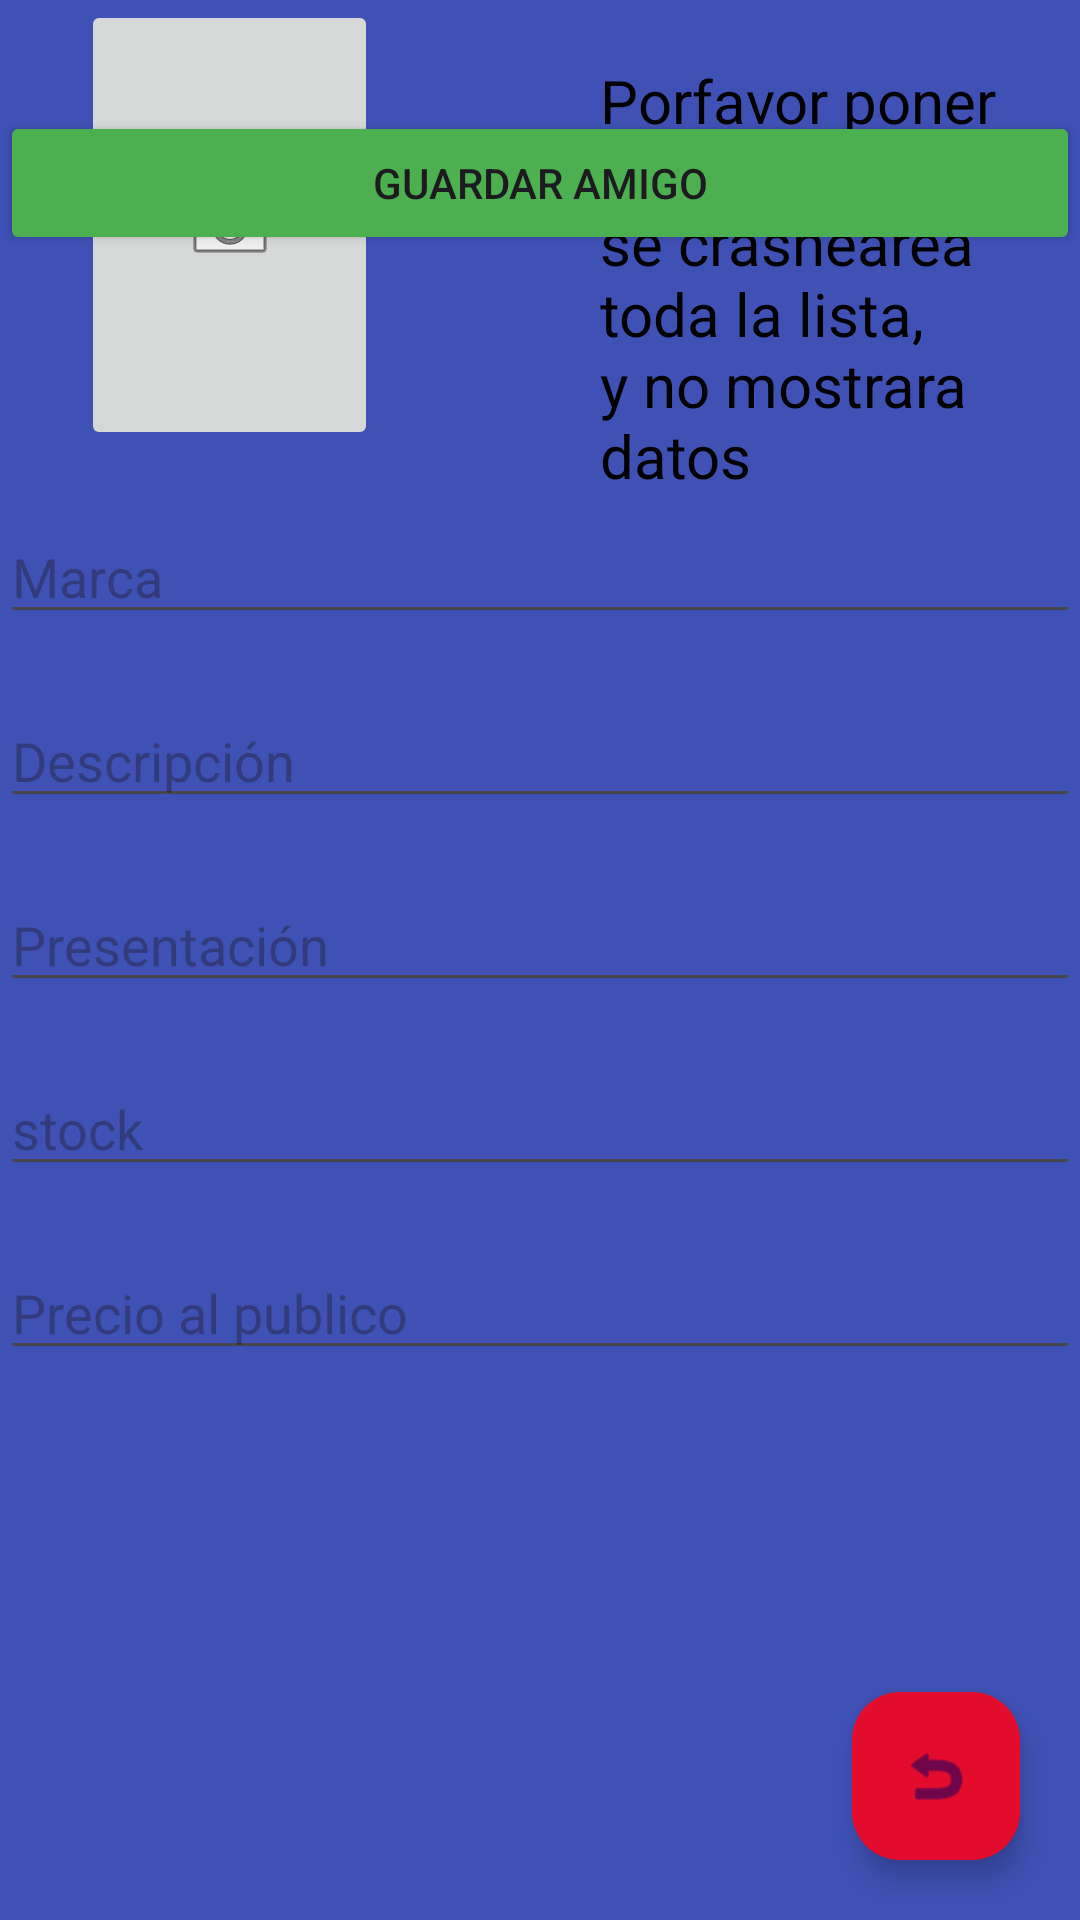

Named icons in this screenshot (1080px x 1920px) and their bounding boxes, box(x1, y1, x2, y2):
revert: box(852, 1692, 1020, 1860)
